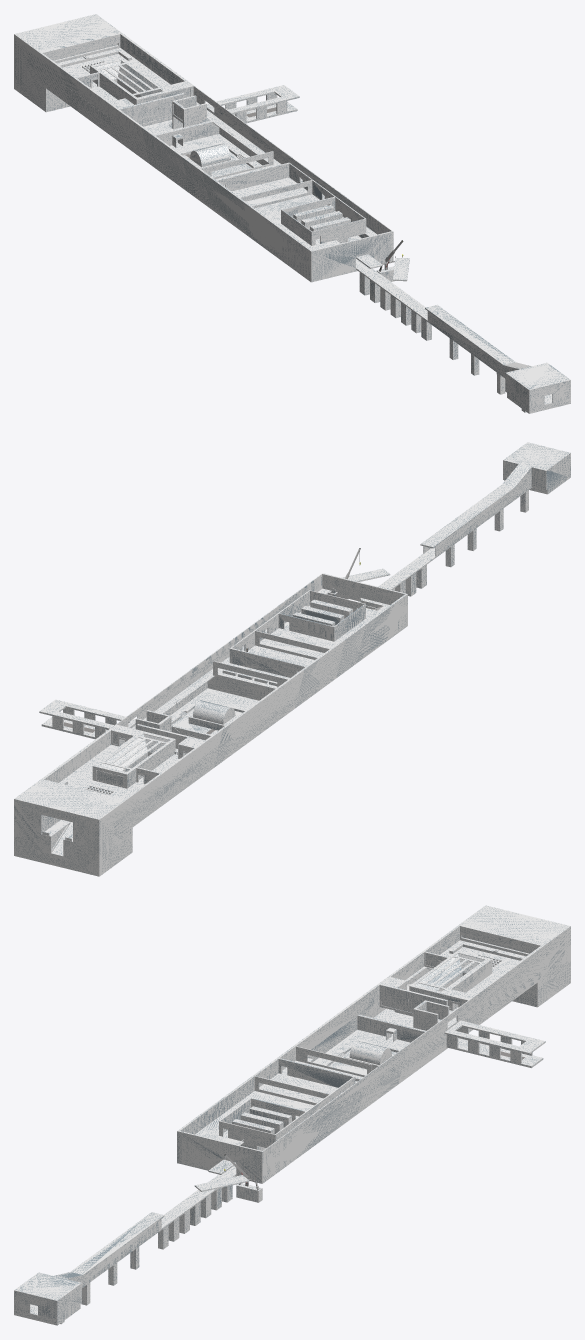
Rendered from Labs Main body.fbx.
3 views of the same model, one above another, from view 1: azimuth 30°, elevation 25°; view 2: azimuth 150°, elevation 25°; view 3: azimuth 330°, elevation 25° (orthographic). The views are drawn at different scales.
Parts seen in each view (by area): view 1: Model; view 2: Model; view 3: Model.
Boxes of the visible parts, <box> form: Model: <box>14,14,570,413</box>; Model: <box>14,442,570,876</box>; Model: <box>14,905,570,1325</box>.
Size of the model in its own units: 54.91 by 21.09 by 281.
